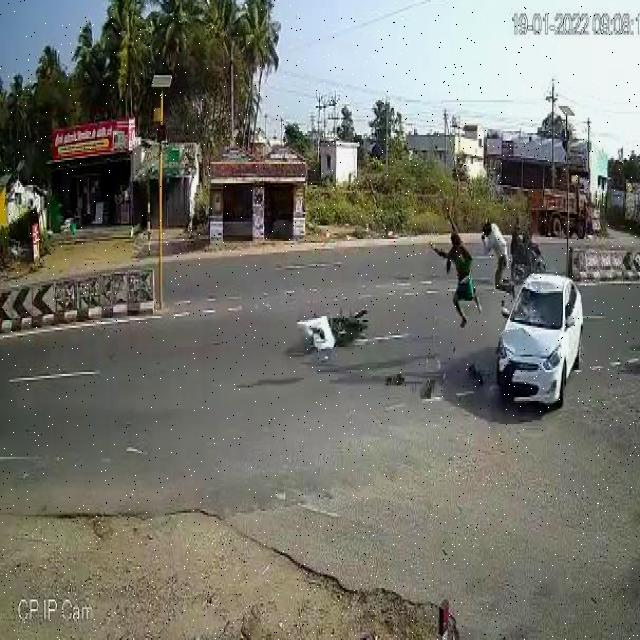accident: (427, 206, 593, 422), (292, 282, 375, 381)
